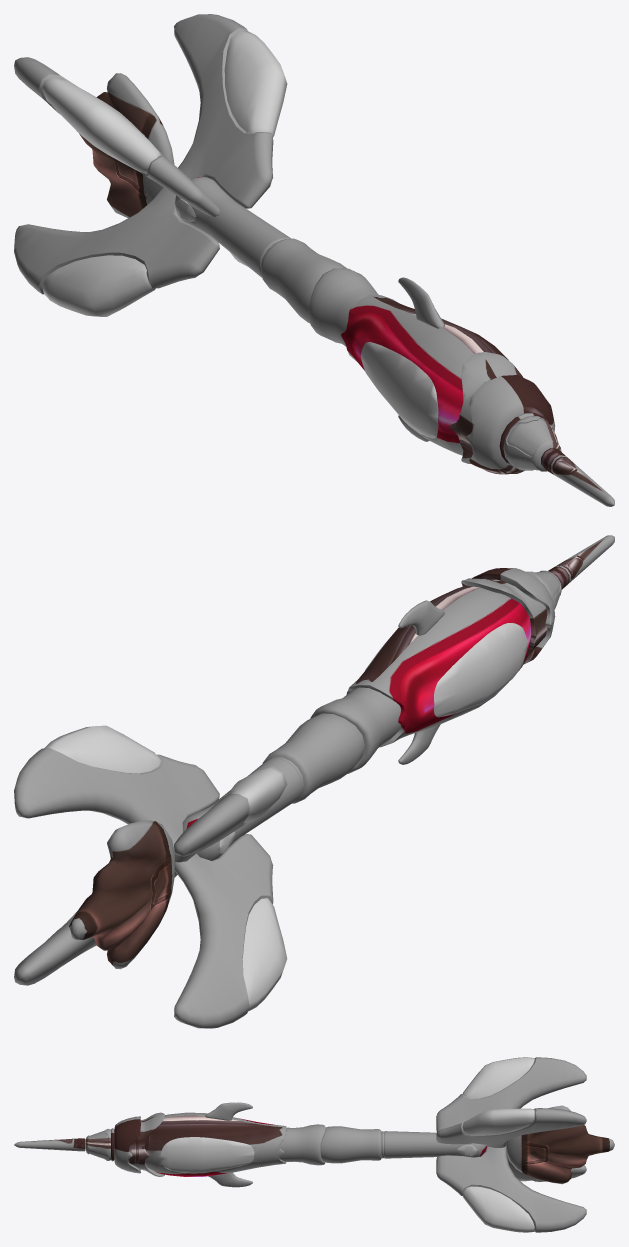
The model's file is alien_dart.fbx.
3 renders of one model, top to bottom at view 1: azimuth 30°, elevation 25°; view 2: azimuth 150°, elevation 25°; view 3: azimuth 270°, elevation 25°, orthographic. The views are drawn at different scales.
Visible parts, largest first — view 1: body, color_change_part_1; view 2: body, color_change_part_1; view 3: body, color_change_part_1.
Part boxes in pixels (x1=…): body: x1=14, y1=14, x2=614, y2=506; color_change_part_1: x1=42, y1=31, x2=438, y2=438; body: x1=14, y1=535, x2=614, y2=1028; color_change_part_1: x1=44, y1=623, x2=527, y2=1011; body: x1=14, y1=1057, x2=614, y2=1232; color_change_part_1: x1=160, y1=1057, x2=534, y2=1232.
Size of the model in its own units: 6.4 by 6.4 by 28.43.
